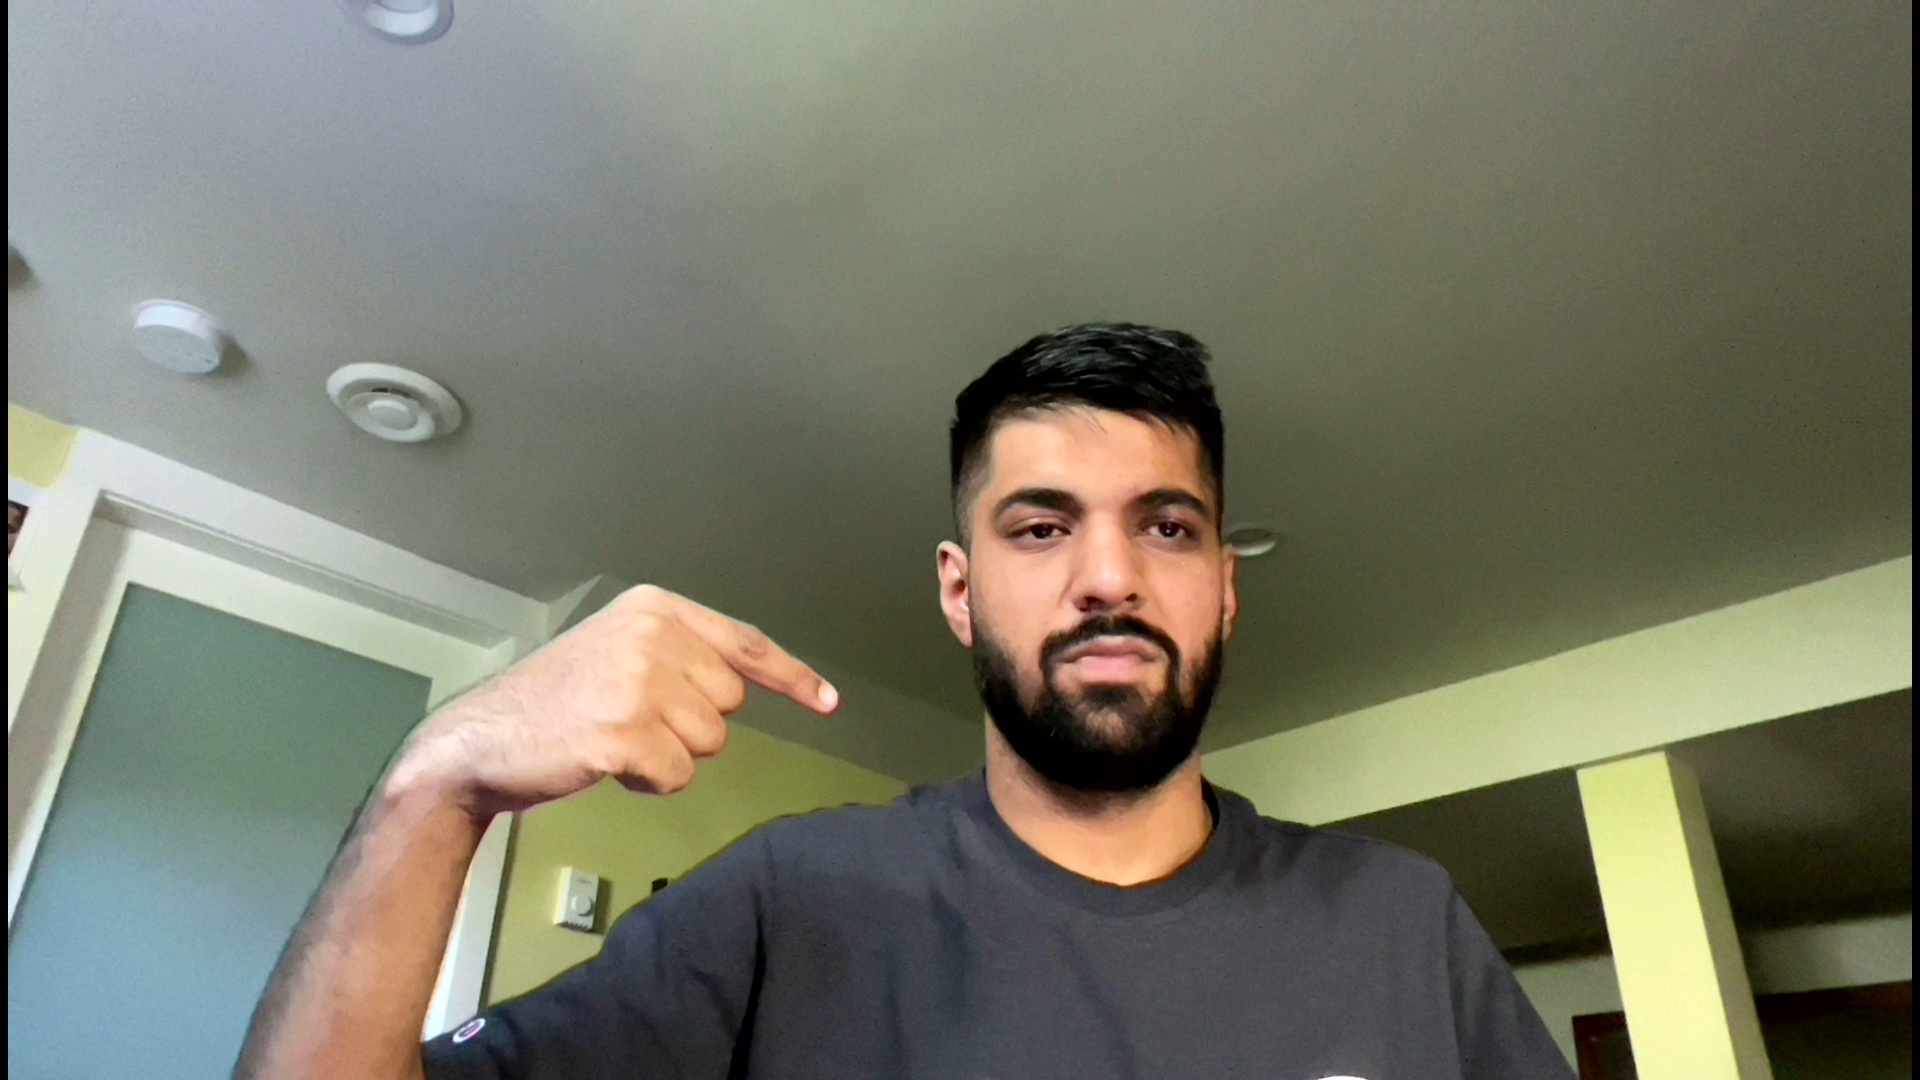Vikrant: (443, 589, 847, 824)
